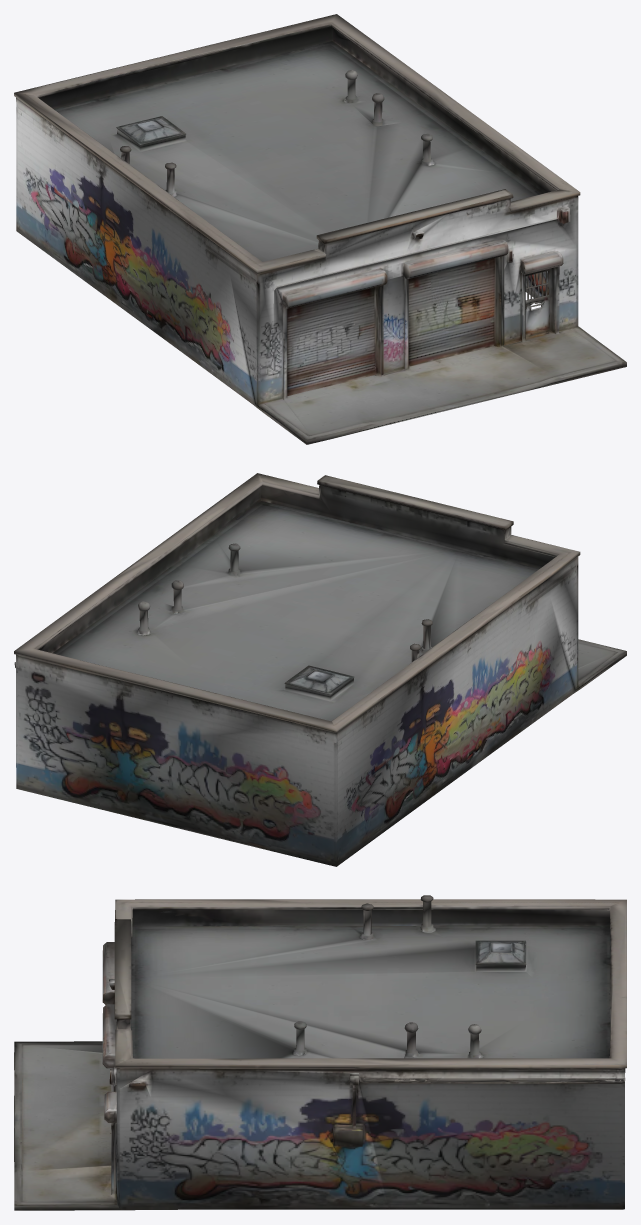
File: auto_garage.glb
3 renders of one model, top to bottom at view 1: azimuth 30°, elevation 25°; view 2: azimuth 150°, elevation 25°; view 3: azimuth 270°, elevation 25°, orthographic. The views are drawn at different scales.
Visible parts, largest first — view 1: node_0; view 2: node_0; view 3: node_0.
Boxes of the visible parts, <box> form: node_0: <box>14,14,626,444</box>; node_0: <box>14,473,626,866</box>; node_0: <box>14,895,626,1210</box>.
Size of the model in its own units: 0.6401 by 0.2847 by 0.9804.
Materials: 1 (1 with a texture image).
